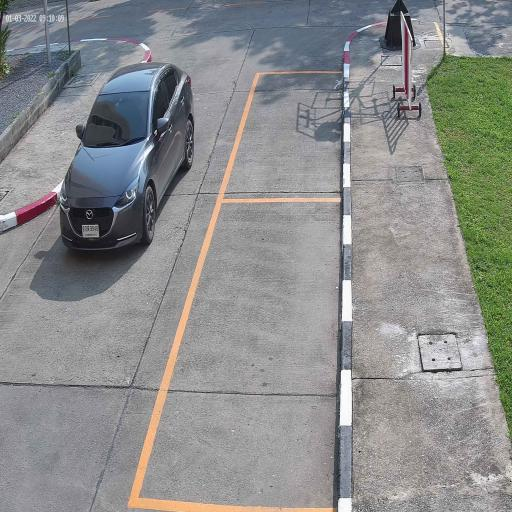car: (59, 61, 195, 254)
